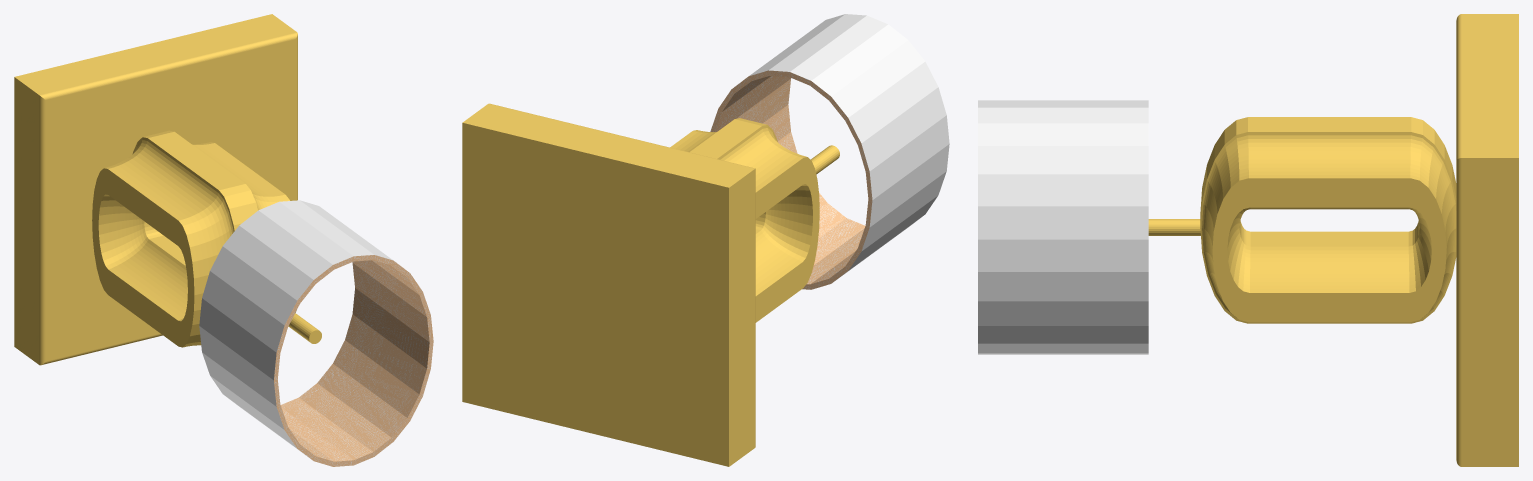
The picture shows the model from 3 angles, left to right: view 1: azimuth 30°, elevation 25°; view 2: azimuth 150°, elevation 25°; view 3: azimuth 270°, elevation 25°; orthographic projection. The views are drawn at different scales.
Visible parts, largest first — view 1: lamp; view 2: lamp; view 3: lamp.
Boxes of the visible parts, left/top/right/bottom form: lamp: left=14, top=14, right=433, bottom=466; lamp: left=462, top=14, right=949, bottom=466; lamp: left=978, top=14, right=1518, bottom=466.
Bounding box in the file's own units: 22.28 × 22.27 × 35.35.
